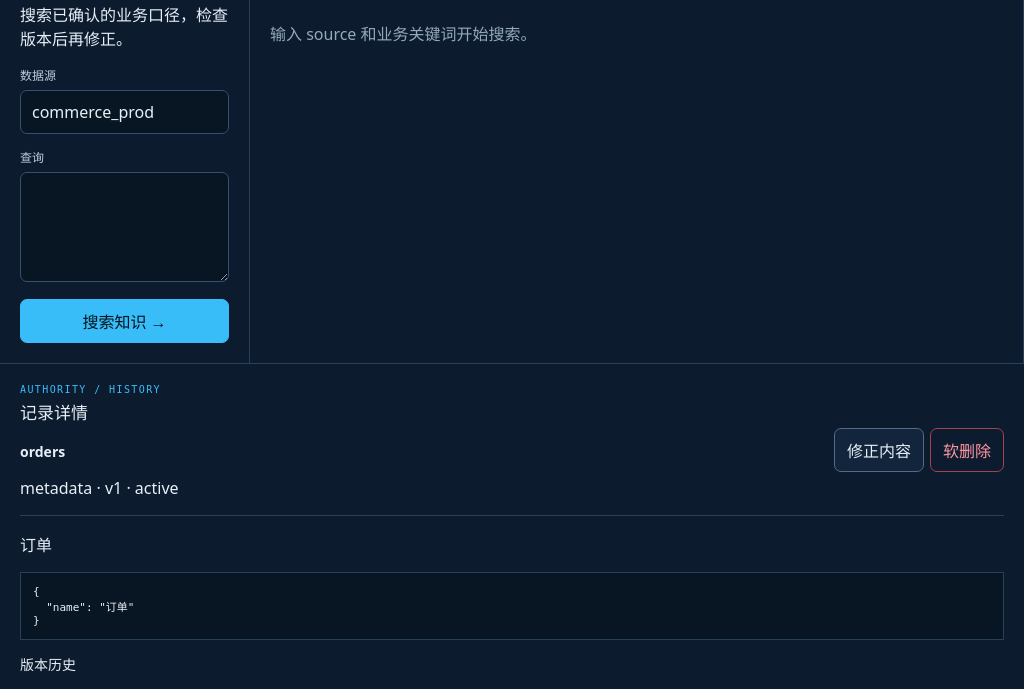
Scenario: knowledge corrections › explains that a saved authoritative correction requires DDL reprocessing
This screenshot has width=1024, height=689.
Step 1. Click the button "修正内容" → (879, 450), box [834,428,924,472]
(page scrolled)
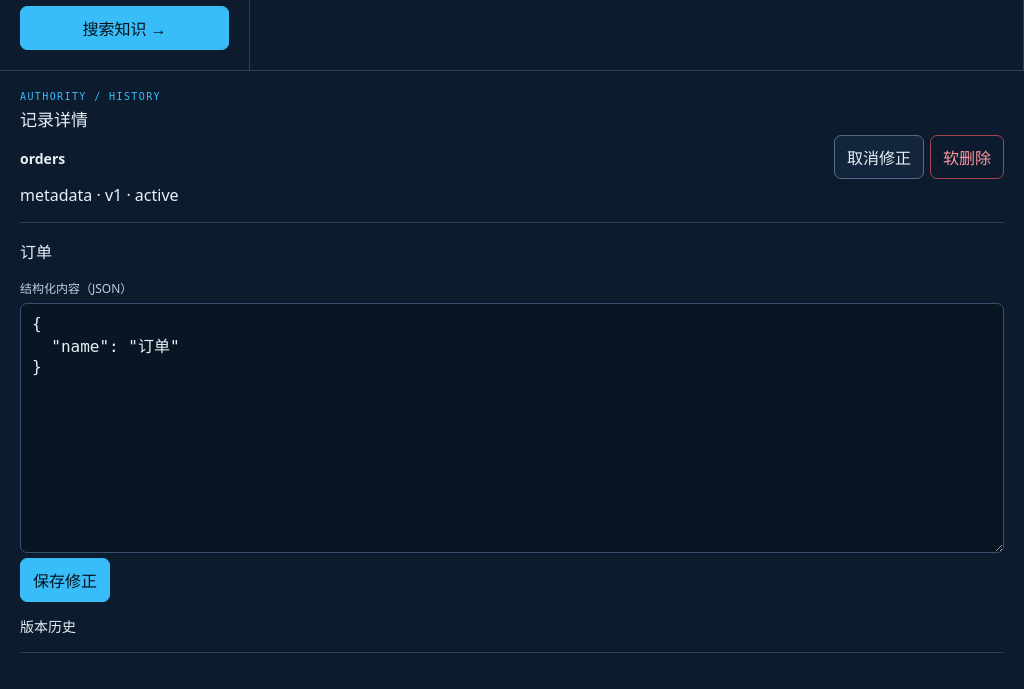
Step 2. Click the button "保存修正" → (65, 580), box [20,558,110,602]
(page scrolled)
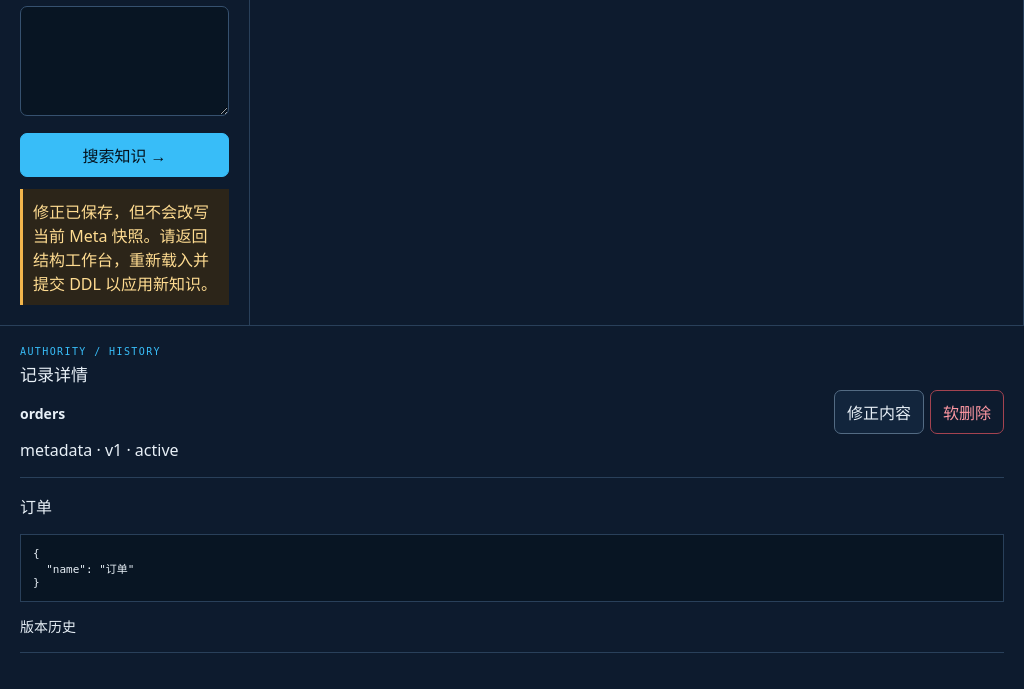
Expected: the message shows "重新载入并提交 DDL", [33,201,217,295]
